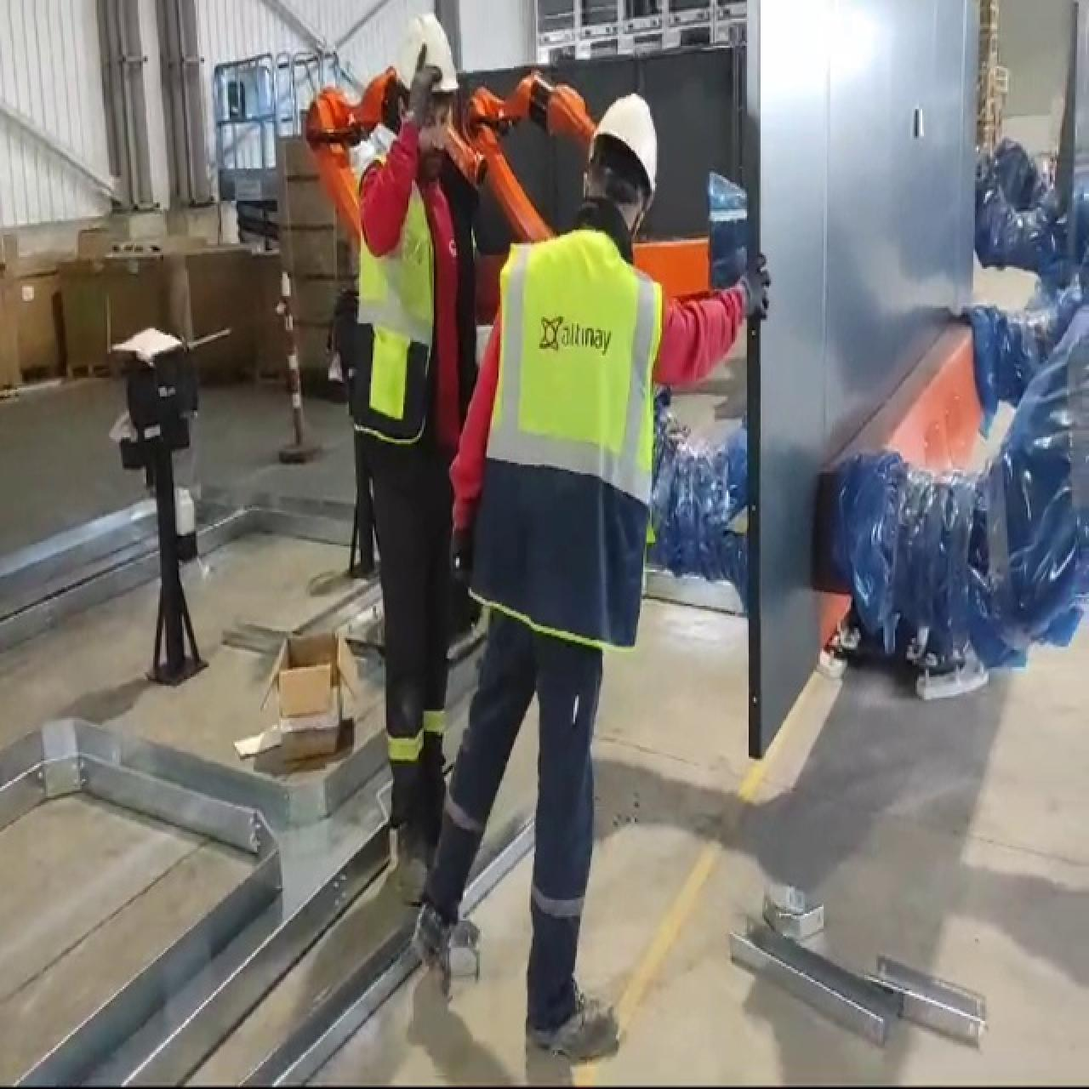Person: (427, 90, 747, 1070), (323, 12, 512, 938)
